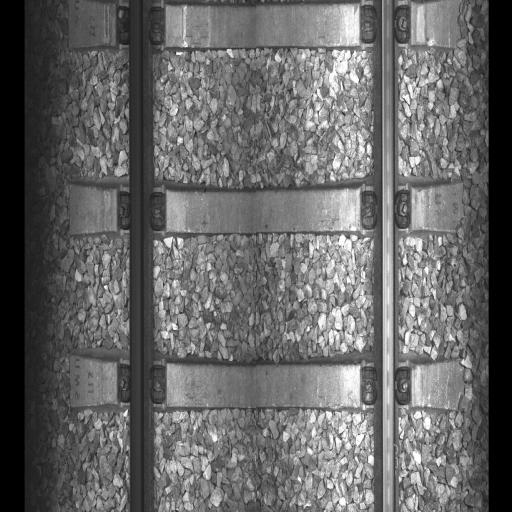clip: (360, 189, 412, 228), (119, 360, 165, 404), (359, 364, 412, 402), (359, 6, 410, 44), (118, 190, 162, 231), (116, 8, 163, 42)
sleeper: (68, 353, 465, 417), (67, 183, 467, 240), (68, 2, 472, 50)
